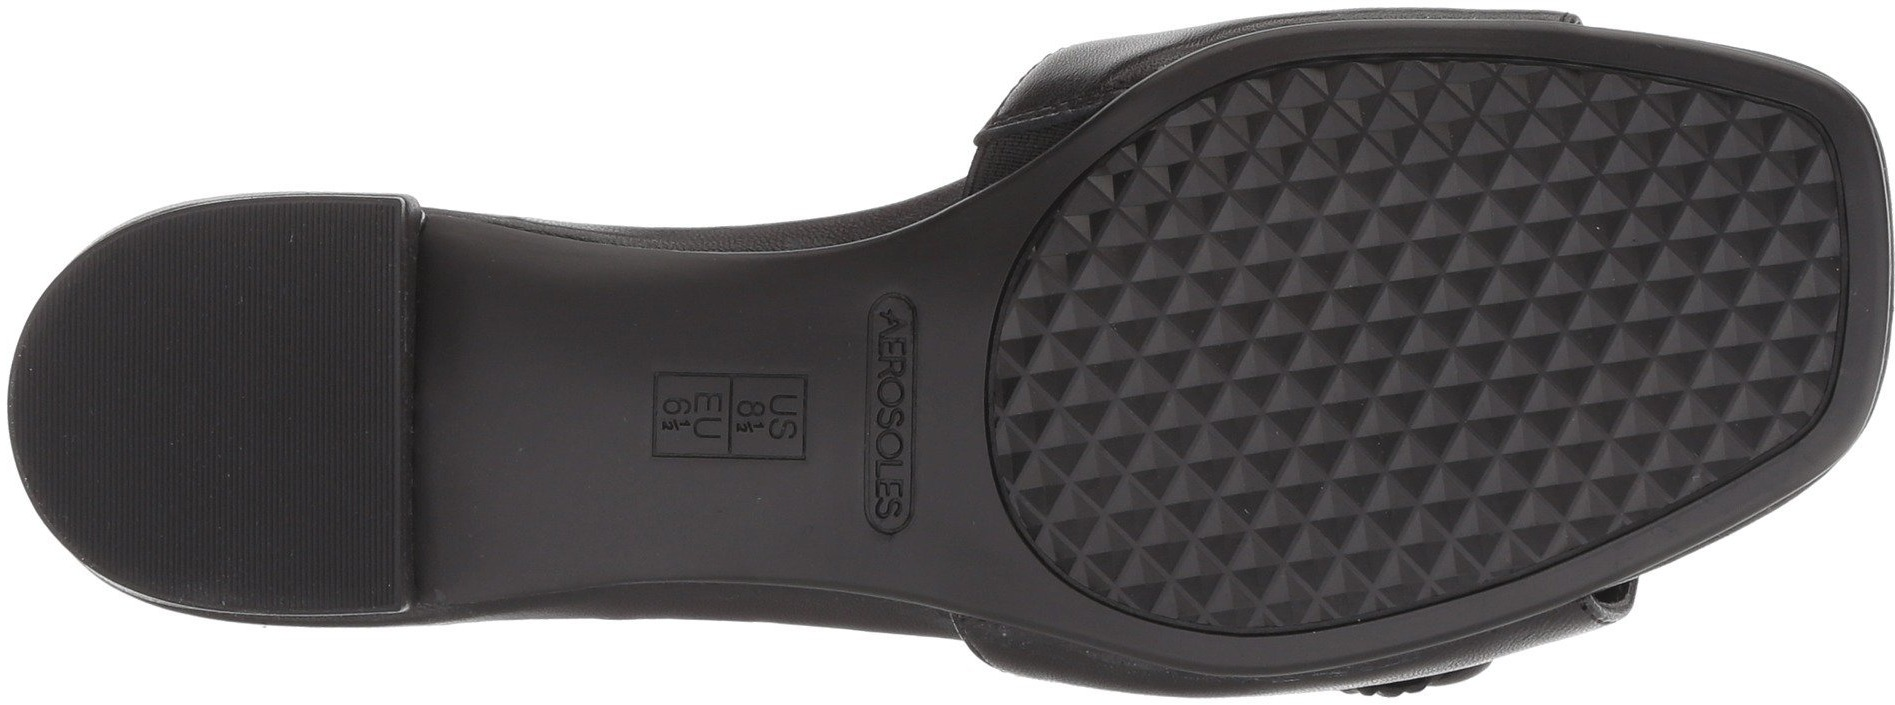exclude: (393, 57, 645, 700)
other: (176, 210, 389, 405), (141, 411, 330, 596)
text: (645, 327, 817, 522), (848, 420, 970, 537), (862, 299, 983, 410)
triangle: (1317, 81, 1657, 394), (1015, 264, 1327, 590), (1337, 405, 1519, 599), (1664, 191, 1845, 352)
